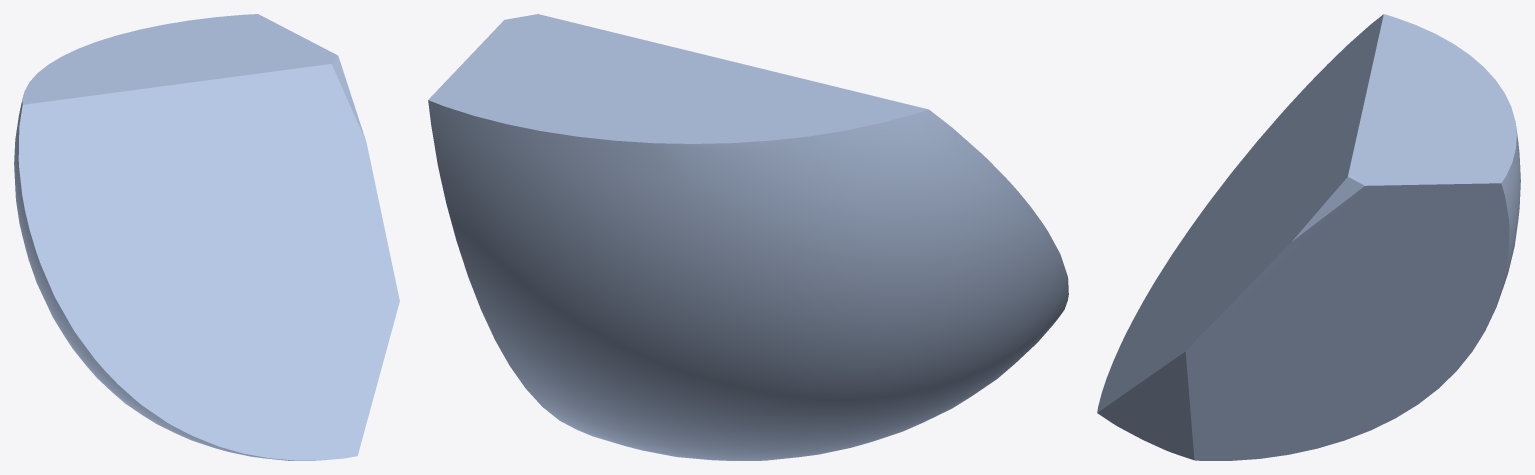
File: Ball1_5.fbx
The picture shows the model from 3 angles, left to right: view 1: azimuth 30°, elevation 25°; view 2: azimuth 150°, elevation 25°; view 3: azimuth 270°, elevation 25°; orthographic projection. The views are drawn at different scales.
Parts seen in each view (by area): view 1: Cube_cell.077; view 2: Cube_cell.077; view 3: Cube_cell.077.
Boxes of the visible parts, x1,y1,x2,y2 form: Cube_cell.077: [14, 14, 399, 460]; Cube_cell.077: [428, 14, 1068, 460]; Cube_cell.077: [1097, 14, 1520, 460].
Bounding box in the file's own units: 116 × 104 × 122.
